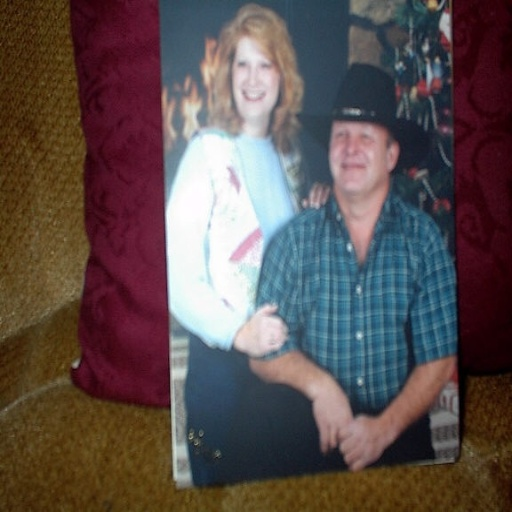hand: (336, 412, 386, 474), (312, 381, 353, 454), (239, 306, 288, 362), (300, 178, 335, 210)
